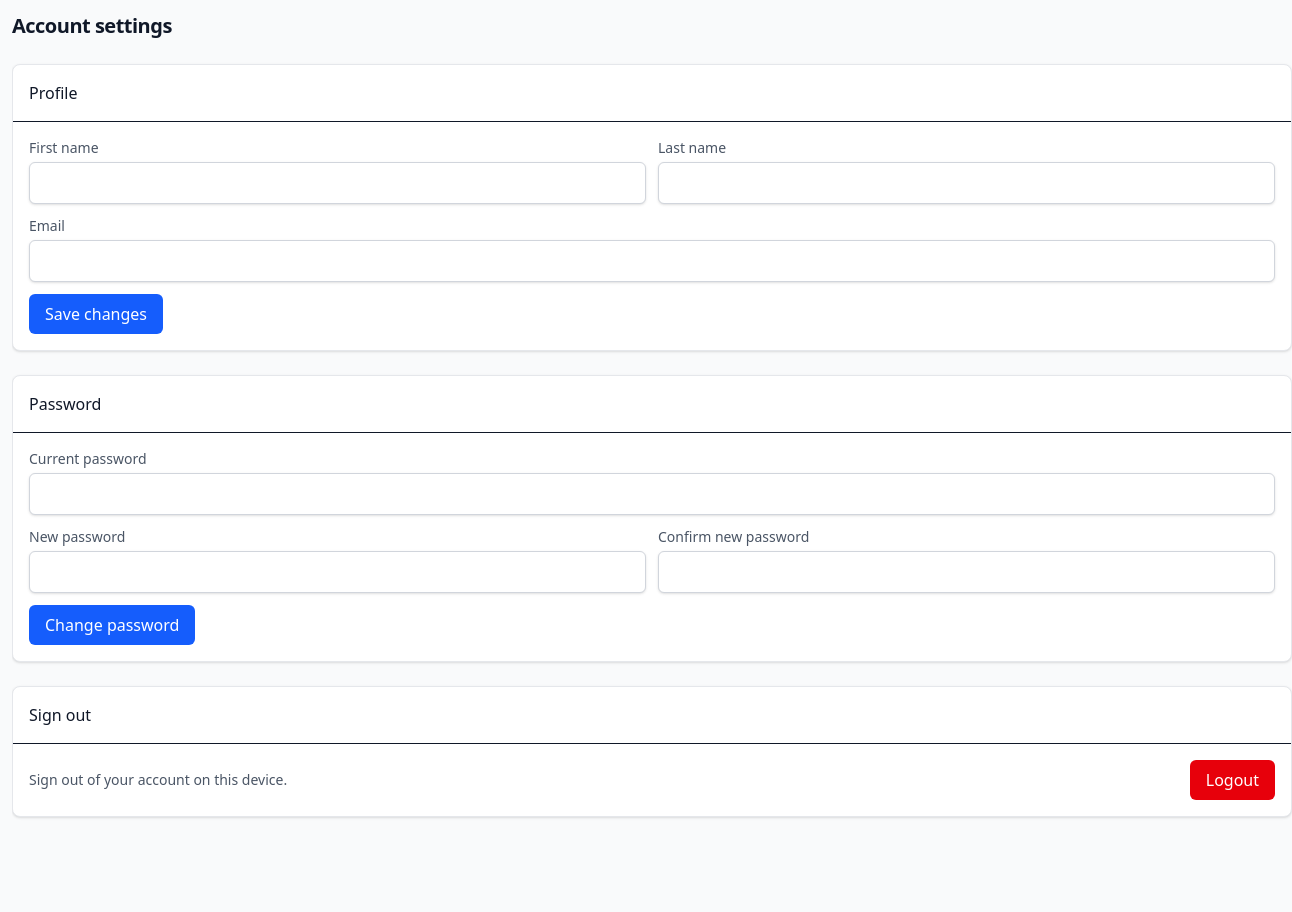
Test: Account page › changes password and shows message
Expected: the heading "Account settings" is shown, [12,12,172,39]
Type "oldpass" into the password field below "Current password".
click(652, 494); type("oldpass")  # box [29,473,1275,515]
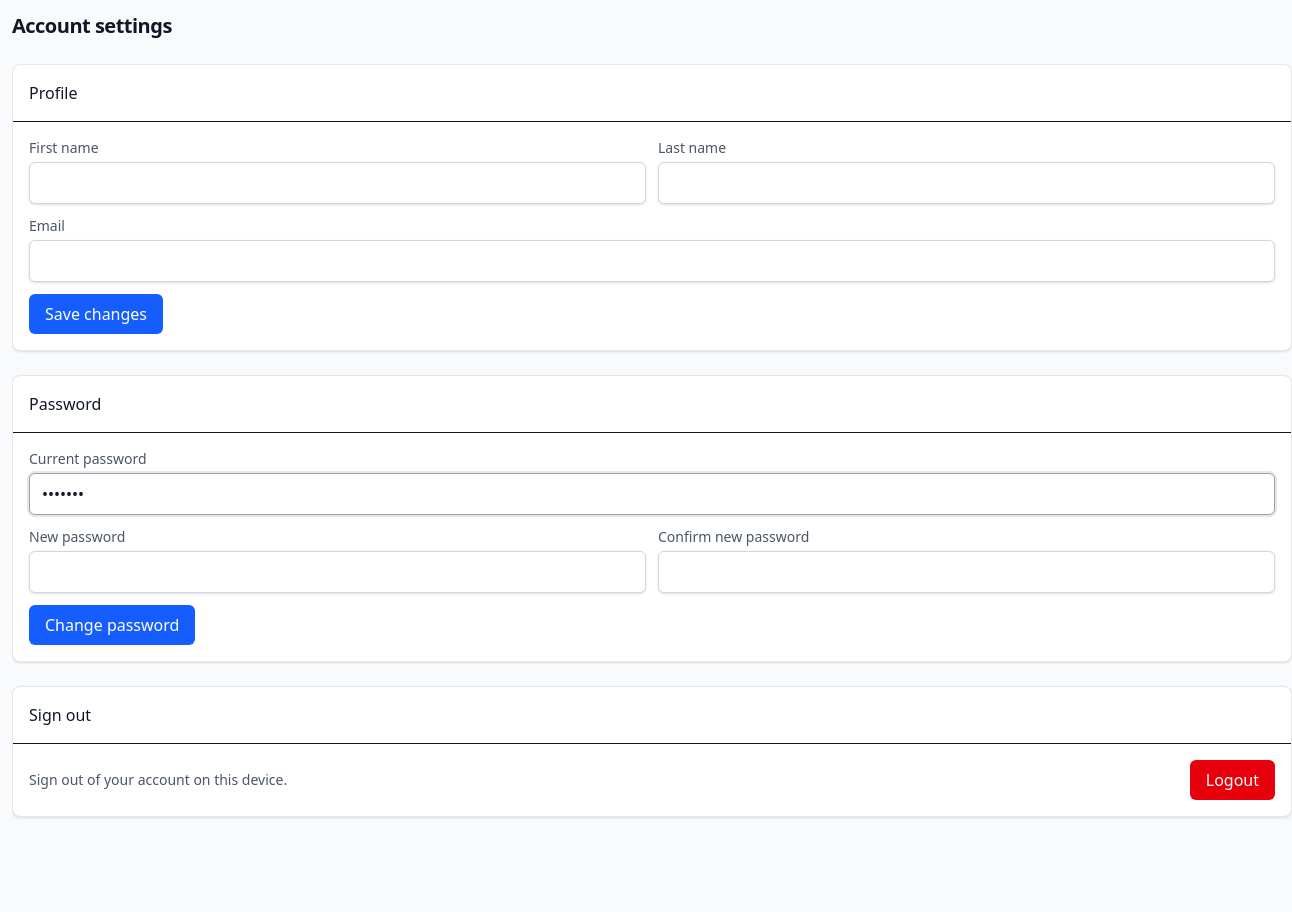
Type "newpass" into the 2nd password field.
click(338, 572); type("newpass")  # box [29,551,646,593]
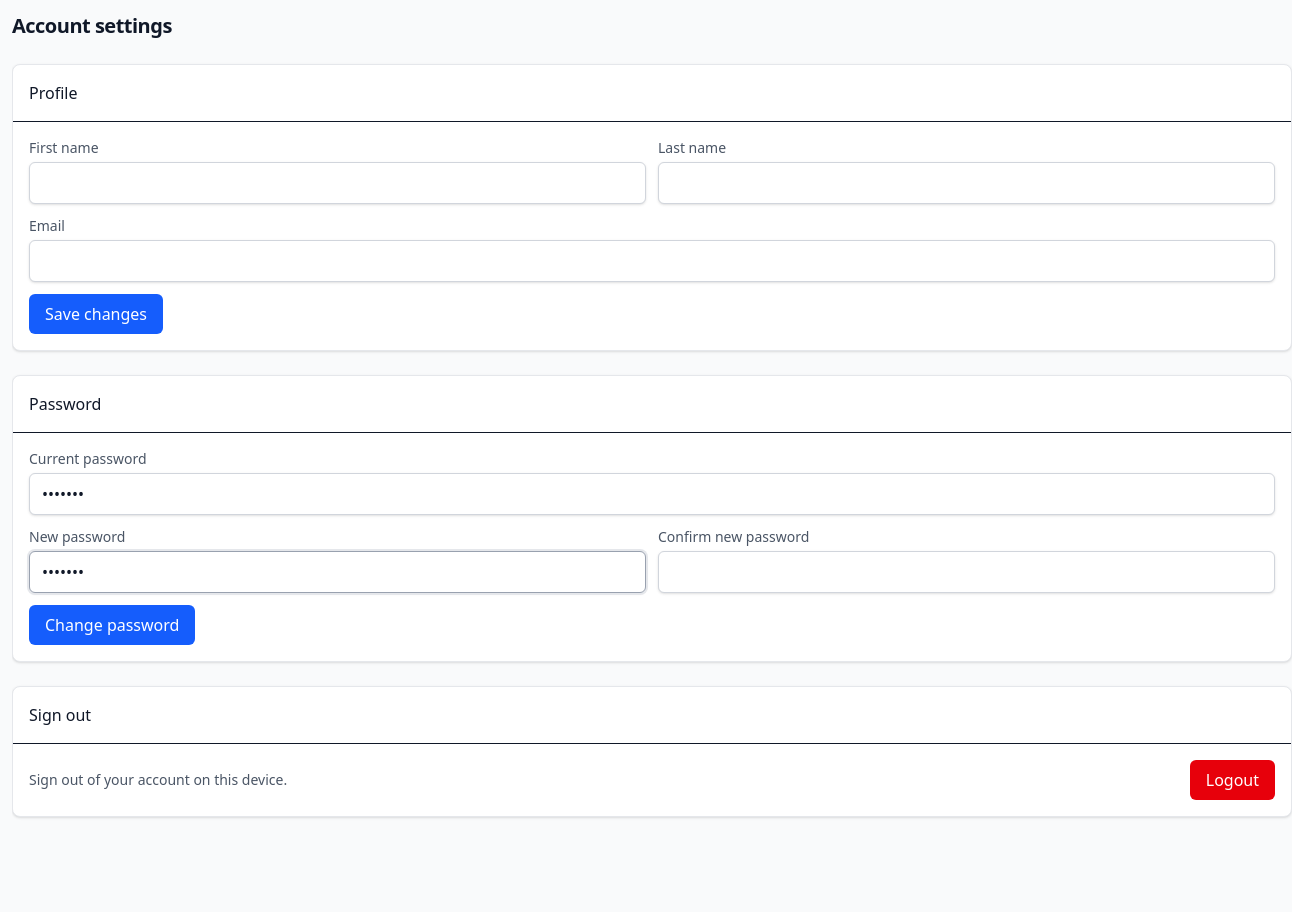
Type "newpass" into the password field below "Confirm new password".
click(966, 572); type("newpass")  # box [658,551,1275,593]
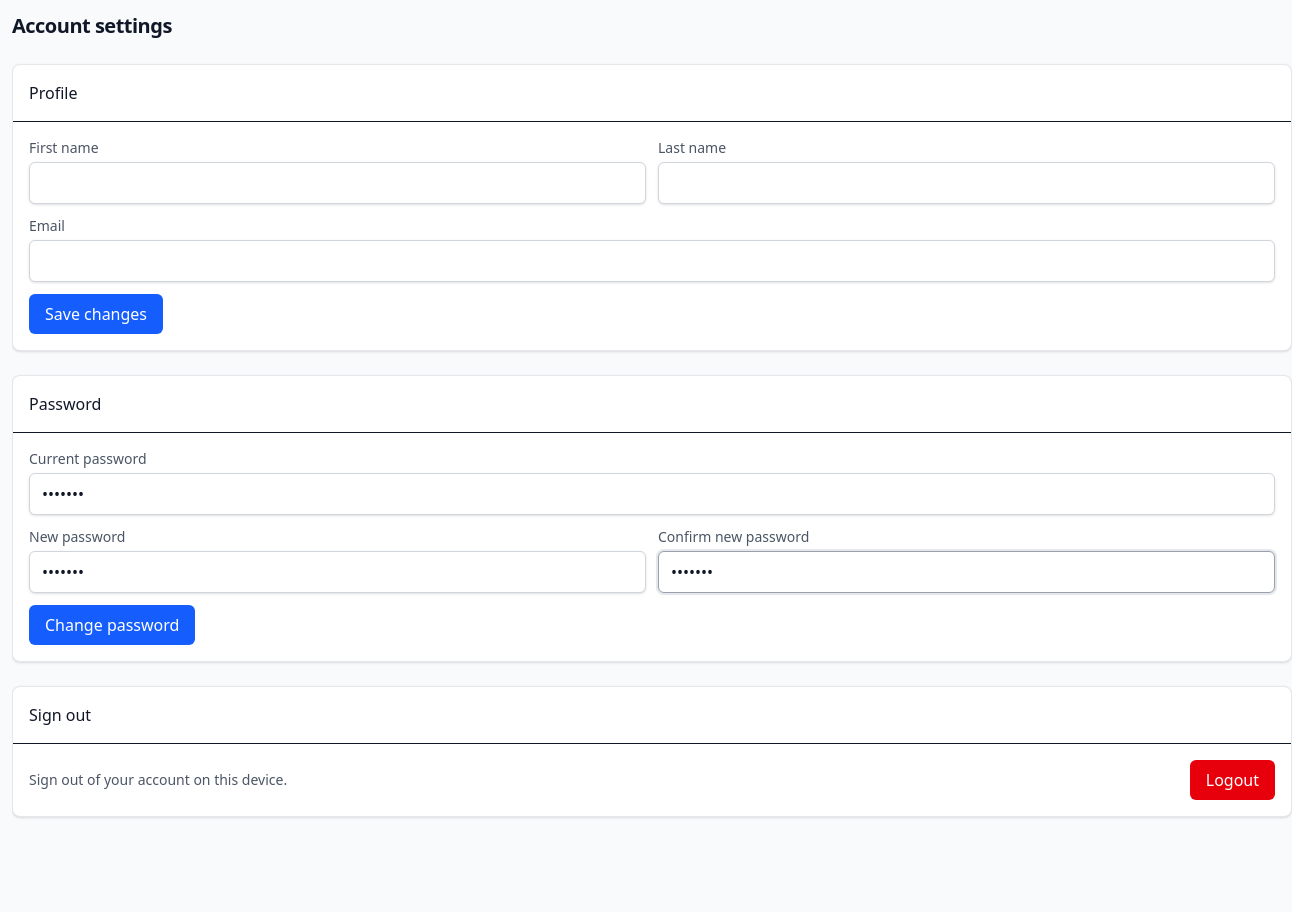
Click the button "Change password".
click(112, 625)  # box [29,605,195,645]
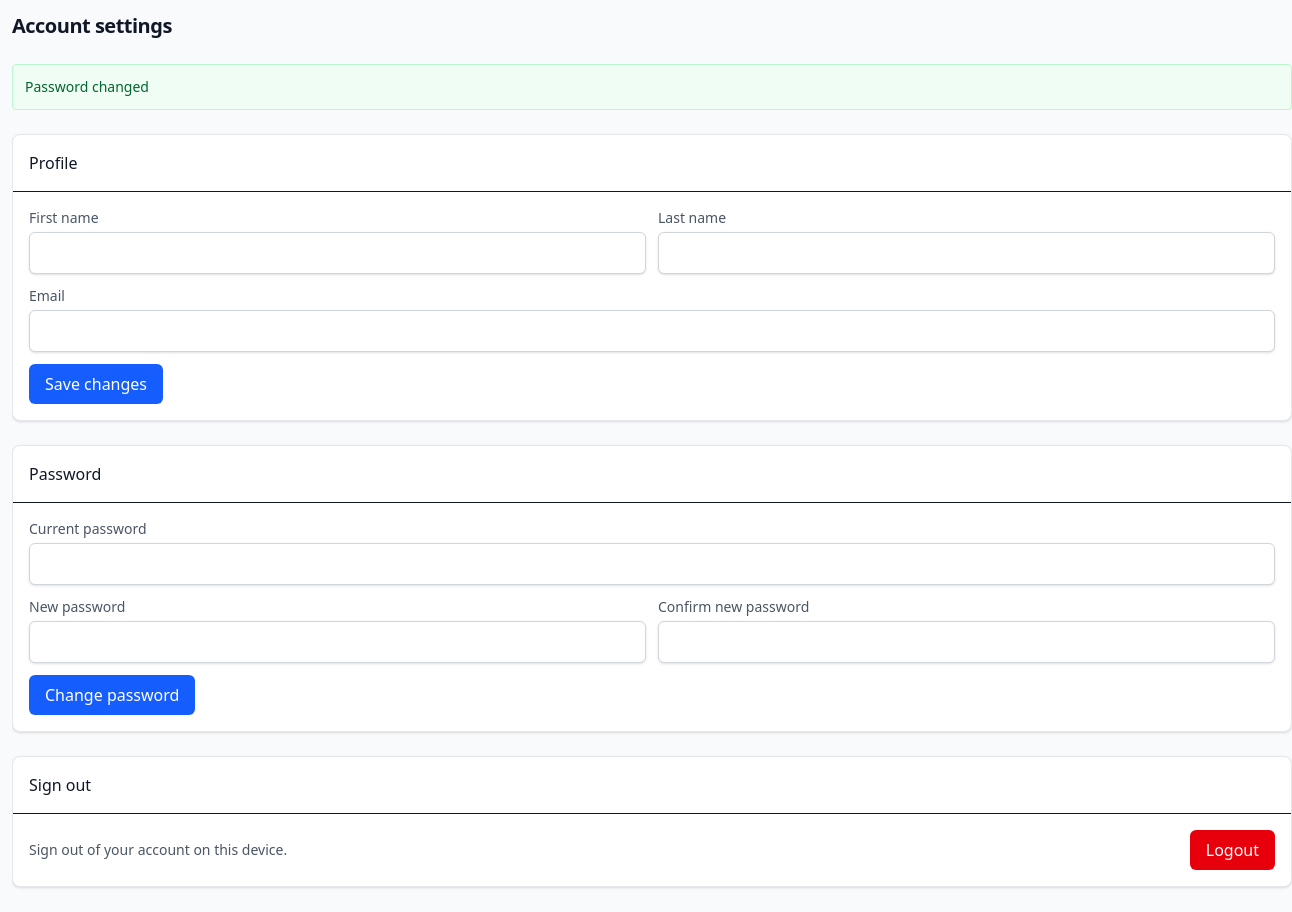
Expected: the text "Password changed" is shown, [12,64,1291,110]
